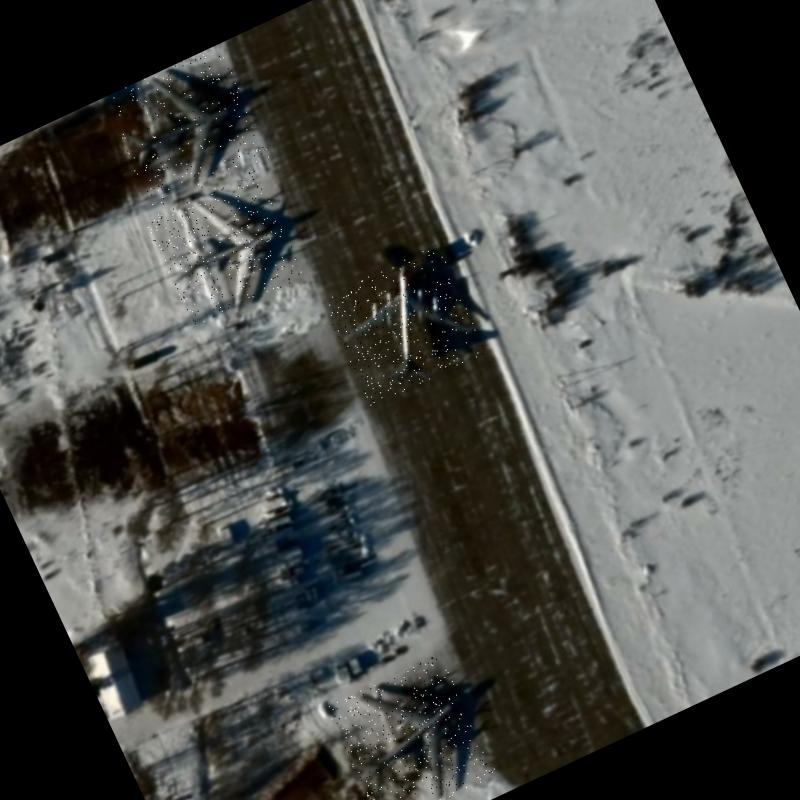A17: (100, 44, 270, 210), (320, 244, 488, 406), (144, 168, 306, 328), (324, 652, 497, 800)
